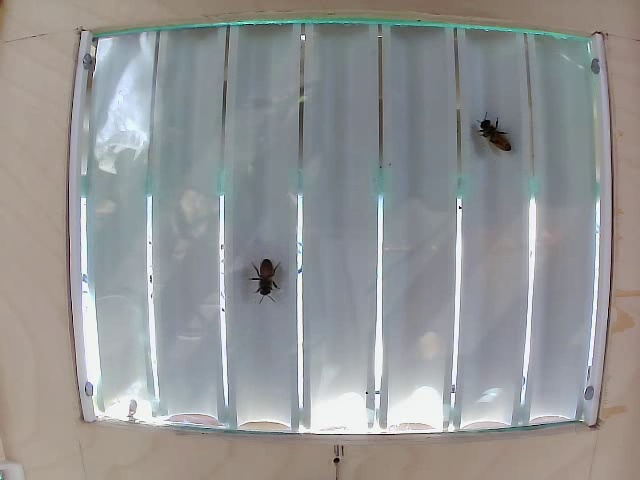bee: (474, 113, 513, 160), (249, 254, 284, 304)
